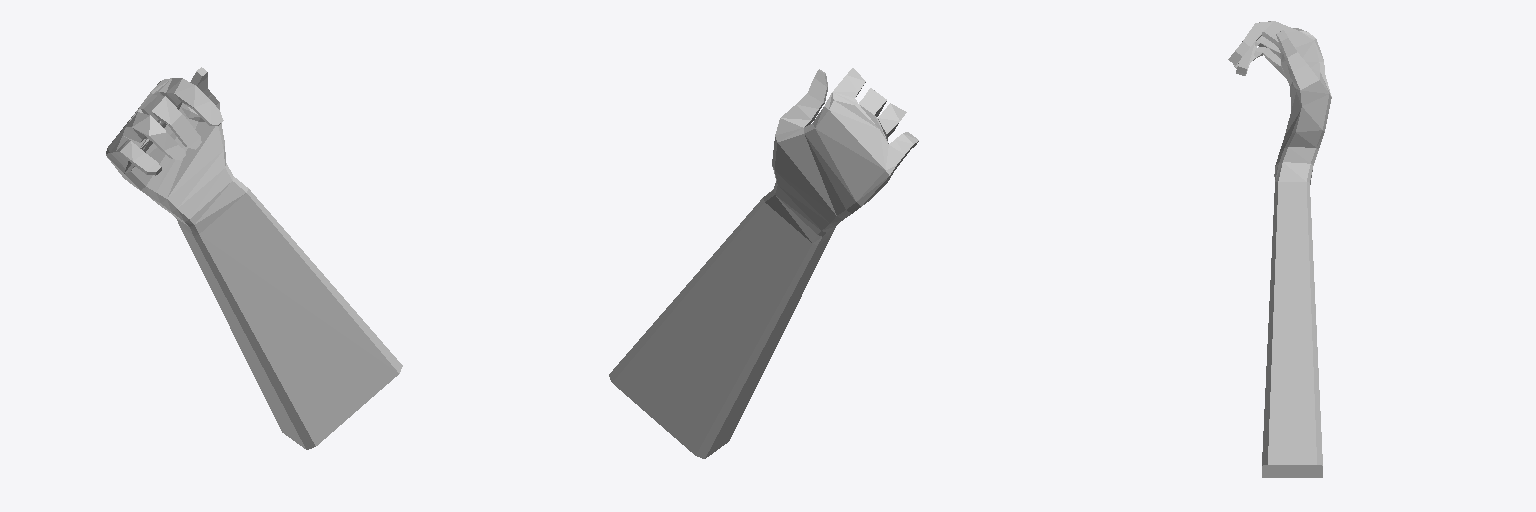
The model's file is hand_anim1.obj.
3 renders of one model, left to right at view 1: azimuth 30°, elevation 25°; view 2: azimuth 150°, elevation 25°; view 3: azimuth 270°, elevation 25°, orthographic.
Visible parts, largest first — view 1: Cube.001; view 2: Cube.001; view 3: Cube.001.
Boxes of the visible parts, box(x1,y1,x2,y2) form: Cube.001: box(106, 67, 402, 449); Cube.001: box(609, 68, 918, 458); Cube.001: box(1228, 21, 1331, 477).
Bounding box in the file's own units: 2.07 × 2.82 × 0.66.